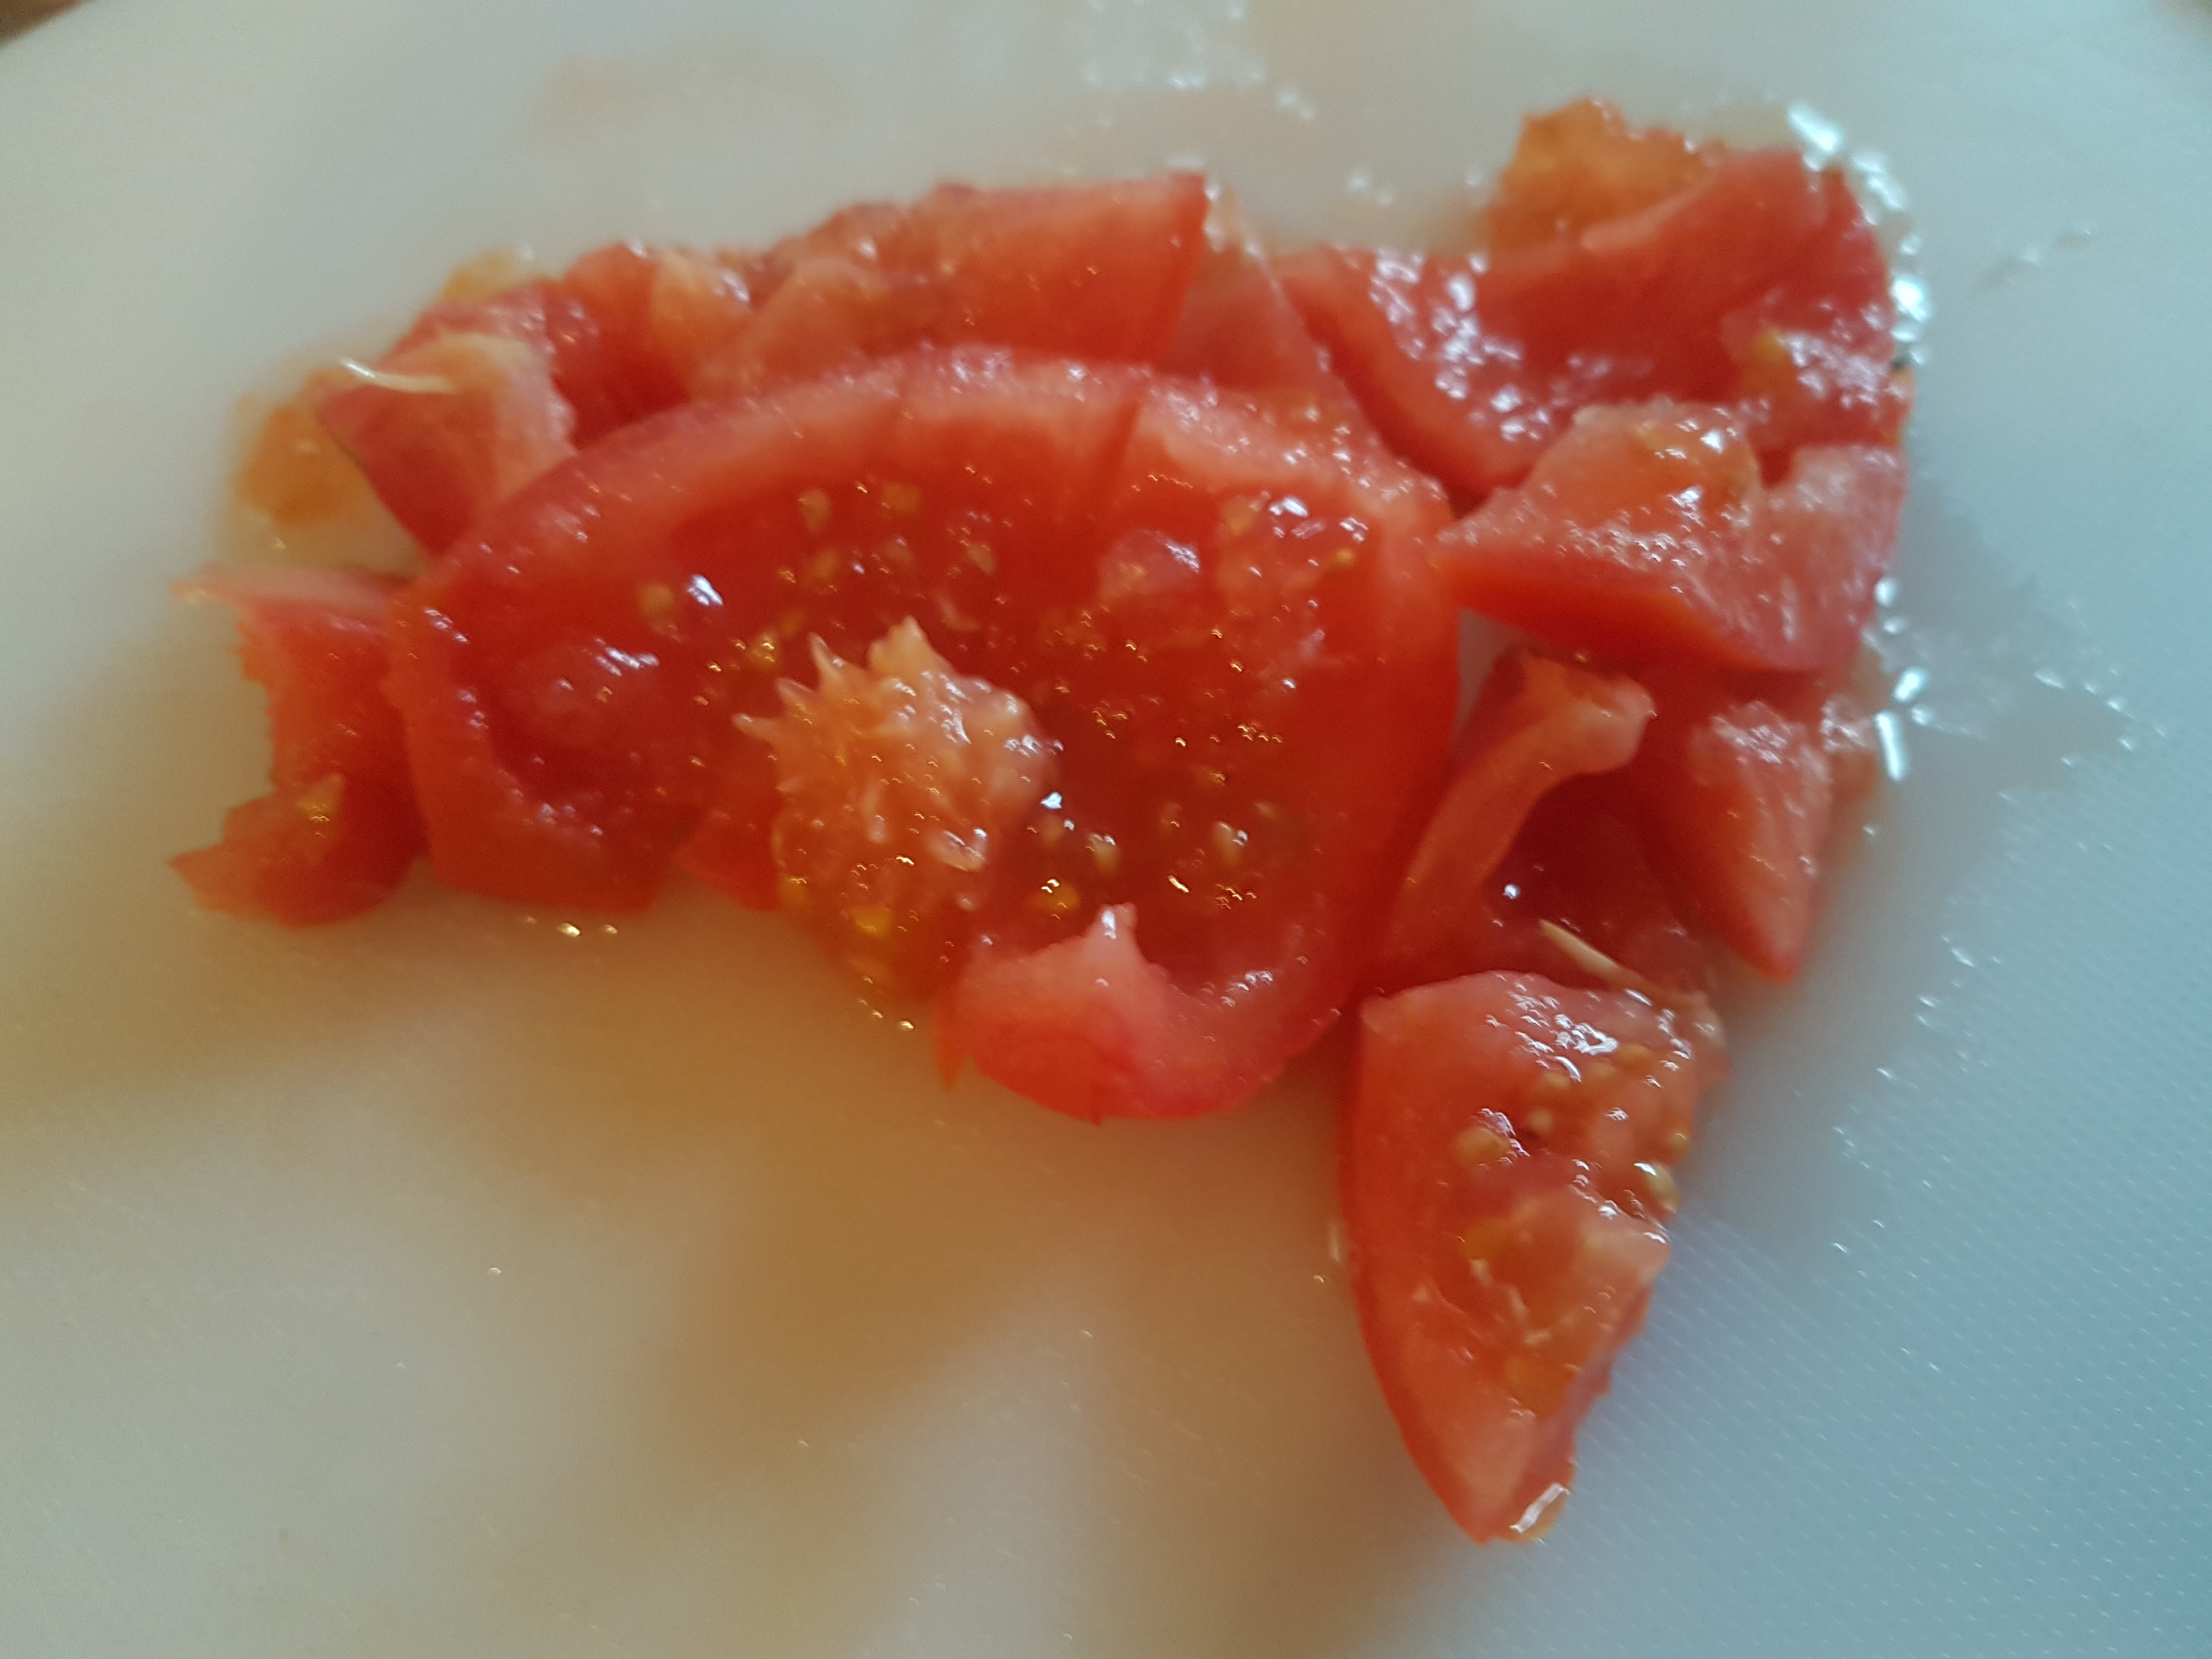Tomato: (193, 68, 2092, 1579)
